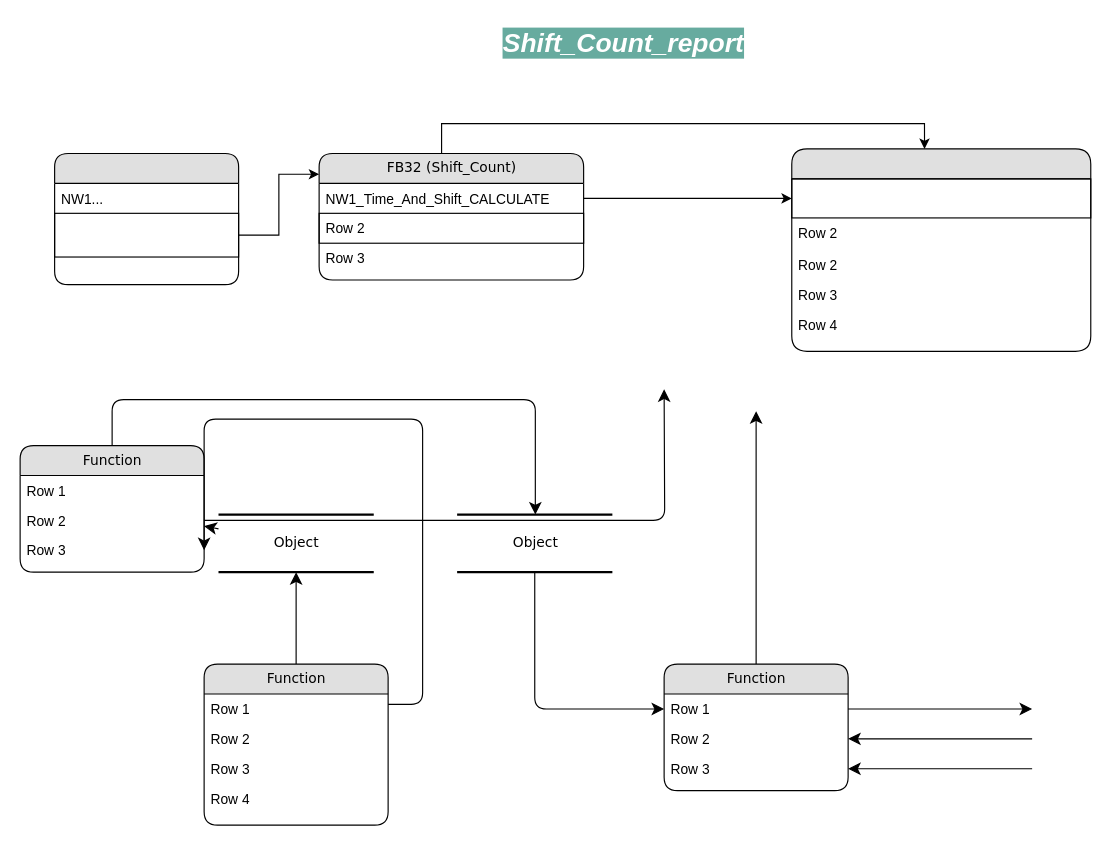
The diagram is 1111 pixels wide and 845 high, and some of its shapes have lost their labels. Each missing label, with the box of its shape:
#localtime, #ShiftDay, #Time_Of_Day, #ShiftNumber: (791, 178, 1091, 218)
Data_Block Shift_Count_DB: (791, 148, 1091, 351)
NW20_Shift_Count _Call_Block: (53, 212, 239, 257)
OB1: (53, 152, 239, 285)
